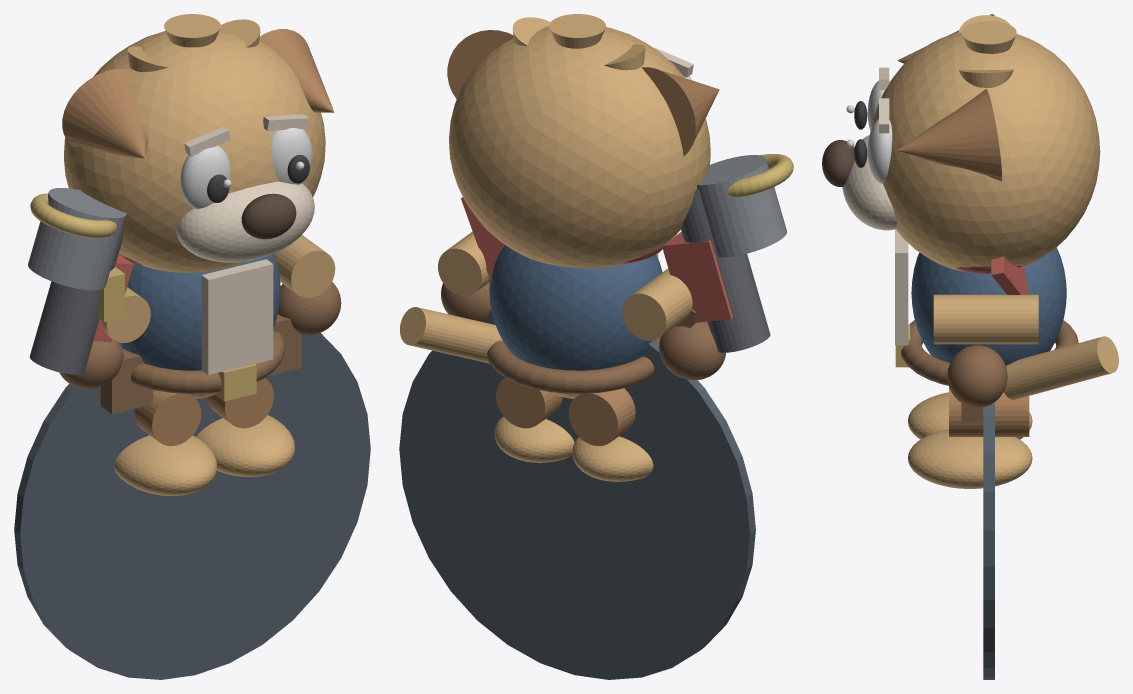
File: Brisky_SelfMade_V2.glb
3 renders of one model, left to right at view 1: azimuth 30°, elevation 25°; view 2: azimuth 150°, elevation 25°; view 3: azimuth 270°, elevation 25°, orthographic. The views are drawn at different scales.
Parts seen in each view (by area): view 1: DisplayBase, Head, ShirtFront, Vest, Muzzle, GunMuzzle, Ear_-1, GunBarrel, Foot_-1, Foot_1, Leg_-1, Belt (+20 smaller); view 2: DisplayBase, Head, Vest, GunMuzzle, GunBarrel, Belt, Tail, GunCore, UpperArm_-1, Leg_-1, Glove_-1, Ear_-1 (+11 smaller); view 3: Head, Vest, UpperArm_1, Foot_1, Ear_1, Tail, DisplayBase, Glove_1, Muzzle, Leg_1, Belt, ShirtFront (+6 smaller).
Part boxes in pixels (left/top/right/bottom): DisplayBase: left=14, top=333, right=370, bottom=679; Head: left=64, top=28, right=325, bottom=272; ShirtFront: left=201, top=259, right=273, bottom=374; Vest: left=121, top=253, right=280, bottom=370; Muzzle: left=176, top=181, right=314, bottom=262; GunMuzzle: left=28, top=188, right=126, bottom=290; Ear_-1: left=62, top=68, right=147, bottom=158; GunBarrel: left=29, top=230, right=122, bottom=374; Foot_-1: left=114, top=435, right=216, bottom=496; Foot_1: left=196, top=415, right=294, bottom=477; Leg_-1: left=134, top=390, right=201, bottom=445; Belt: left=130, top=331, right=284, bottom=393; DisplayBase: left=399, top=310, right=755, bottom=679; Head: left=449, top=26, right=710, bottom=268; Vest: left=489, top=245, right=662, bottom=370; GunMuzzle: left=697, top=155, right=786, bottom=257; GunBarrel: left=680, top=189, right=770, bottom=352; Belt: left=486, top=340, right=654, bottom=393; Tail: left=400, top=307, right=502, bottom=363; GunCore: left=662, top=232, right=733, bottom=322; UpperArm_-1: left=622, top=268, right=692, bottom=340; Leg_-1: left=568, top=388, right=635, bottom=445; Glove_-1: left=659, top=321, right=725, bottom=380; Ear_-1: left=641, top=67, right=719, bottom=155; Head: left=872, top=32, right=1100, bottom=272; Vest: left=911, top=247, right=1066, bottom=365; UpperArm_1: left=933, top=294, right=1038, bottom=344; Foot_1: left=908, top=429, right=1032, bottom=488; Ear_1: left=897, top=89, right=1001, bottom=181; Tail: left=1004, top=336, right=1118, bottom=399; DisplayBase: left=983, top=402, right=994, bottom=679; Glove_1: left=947, top=345, right=1007, bottom=407; Muzzle: left=842, top=135, right=896, bottom=230; Leg_1: left=949, top=387, right=1029, bottom=436; Belt: left=901, top=320, right=1078, bottom=385; ShirtFront: left=895, top=229, right=908, bottom=345.
Size of the model in its own units: 2.76 by 4.76 by 2.04.
